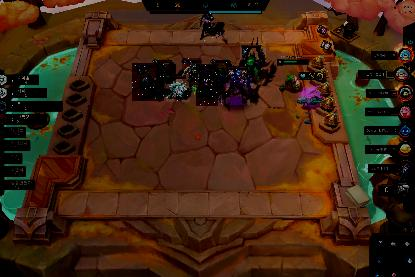1_pantheon: (196, 64, 218, 106), (200, 12, 220, 42)
1_shiohyu: (240, 42, 266, 82)
1_syfen: (226, 67, 250, 105)
2_gnar: (166, 74, 190, 102)
2_jax: (182, 58, 202, 86)
2_sylas: (132, 63, 164, 101)
jade: (156, 64, 176, 84), (213, 61, 231, 83)
